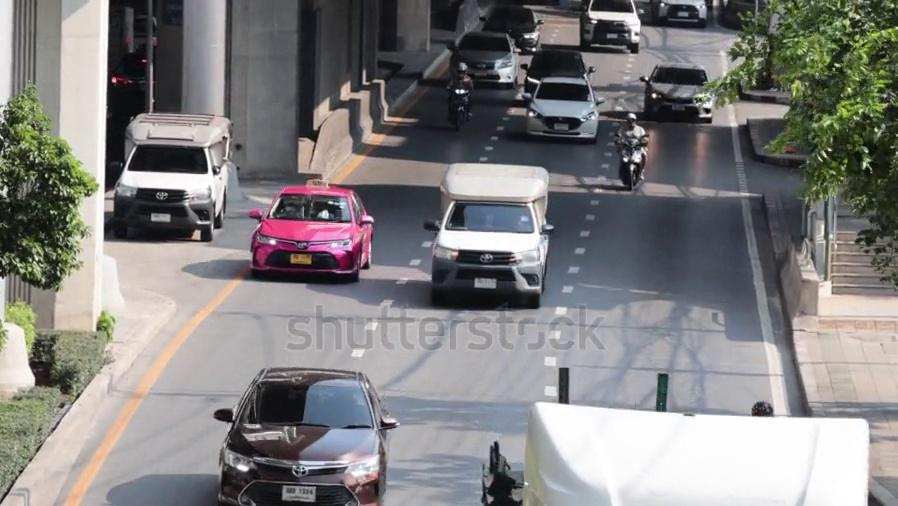rider: (614, 112, 648, 180), (446, 62, 474, 122)
with_helmate: (454, 64, 469, 77), (624, 114, 639, 126)
